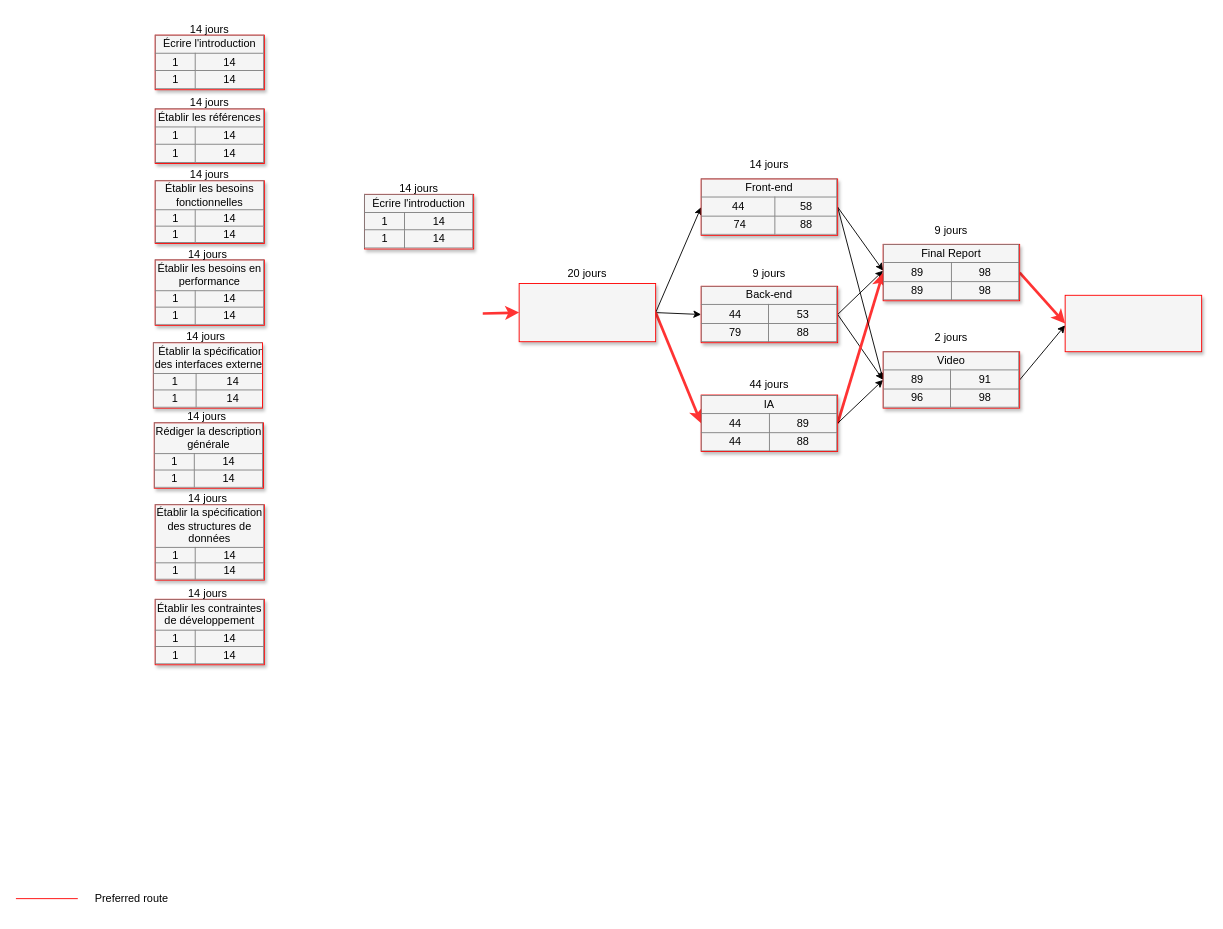
The diagram is 1223 pixels wide and 929 high, and some of its shapes have lost their labels. The centre of each missing label's shape, as x and y in pixels:
Code Modèle du jeu 23 43 23 43: the point at 588,313
Soutenance 99 99 99 99: the point at 1134,324
